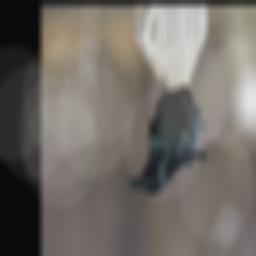Crow: (129, 76, 206, 194)
